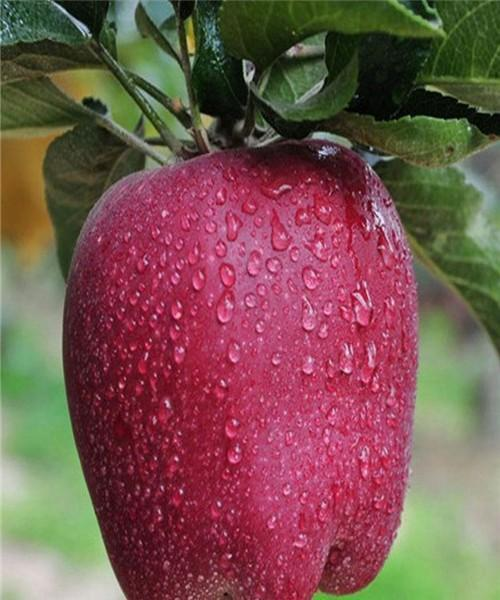apple: (64, 136, 417, 600)
